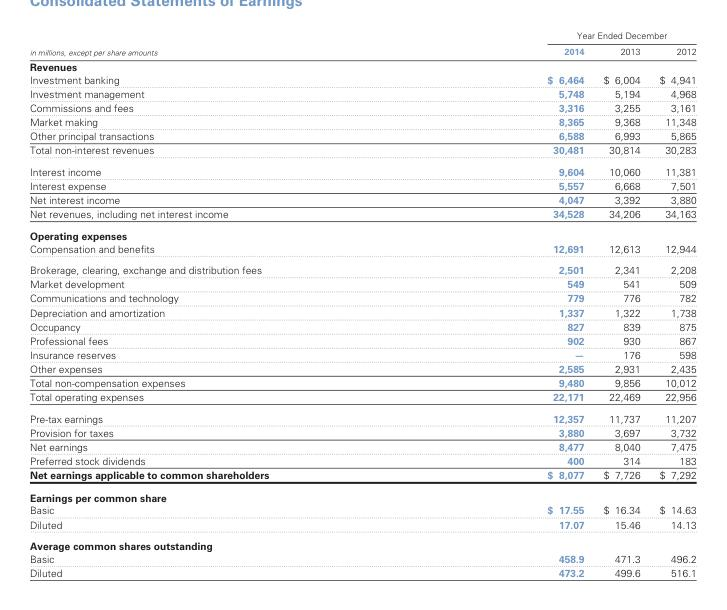table: (28, 29, 695, 578)
table column: (28, 29, 407, 578), (407, 29, 593, 578), (593, 29, 649, 578), (649, 29, 695, 578)
table column header: (28, 29, 695, 58)
table projected row header: (28, 485, 695, 503), (28, 534, 695, 552), (28, 224, 695, 241), (28, 58, 695, 73)
table row: (28, 142, 695, 160), (28, 160, 695, 178), (28, 206, 695, 224), (28, 258, 695, 276), (28, 389, 695, 407), (28, 467, 695, 485), (28, 485, 695, 503), (28, 516, 695, 534), (28, 534, 695, 552), (28, 224, 695, 241), (28, 241, 695, 258), (28, 407, 695, 424), (28, 42, 695, 58), (28, 58, 695, 73), (28, 318, 695, 333), (28, 424, 695, 439), (28, 86, 695, 100), (28, 100, 695, 114), (28, 114, 695, 128), (28, 128, 695, 142), (28, 178, 695, 192), (28, 192, 695, 206), (28, 276, 695, 290), (28, 290, 695, 304), (28, 304, 695, 318), (28, 333, 695, 347), (28, 347, 695, 361), (28, 361, 695, 375), (28, 375, 695, 389), (28, 439, 695, 453), (28, 453, 695, 467), (28, 29, 695, 42), (28, 73, 695, 86), (28, 503, 695, 516), (28, 552, 695, 565), (28, 565, 695, 578)
table spanning cell: (28, 29, 407, 58), (407, 29, 695, 42)
